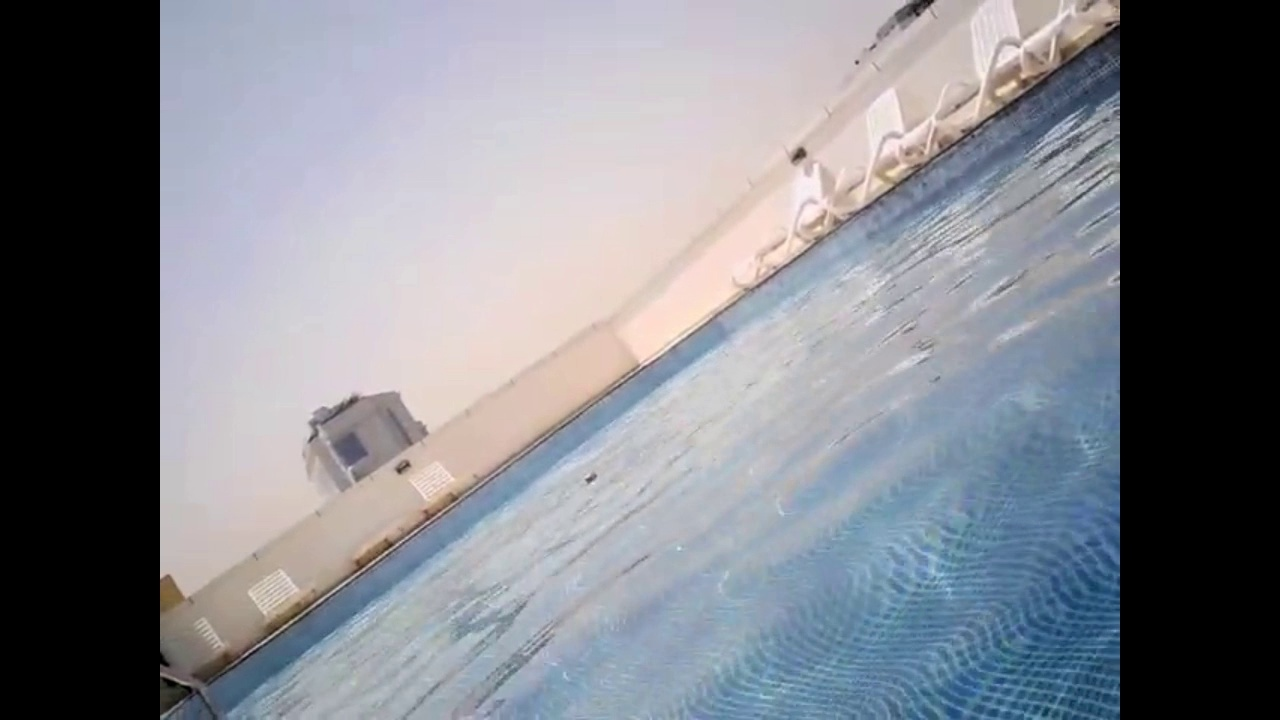debris: (576, 468, 601, 490)
